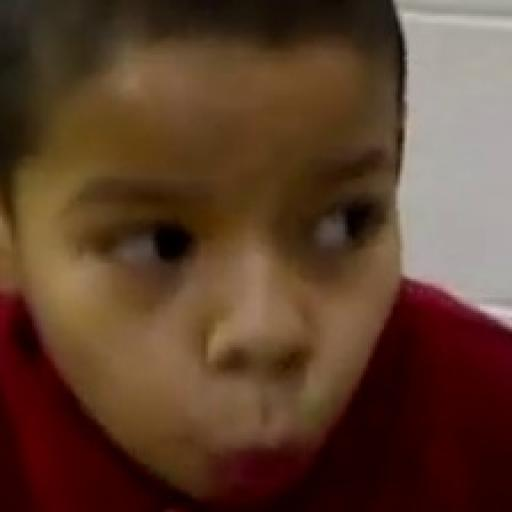Autism: (10, 27, 512, 512)
